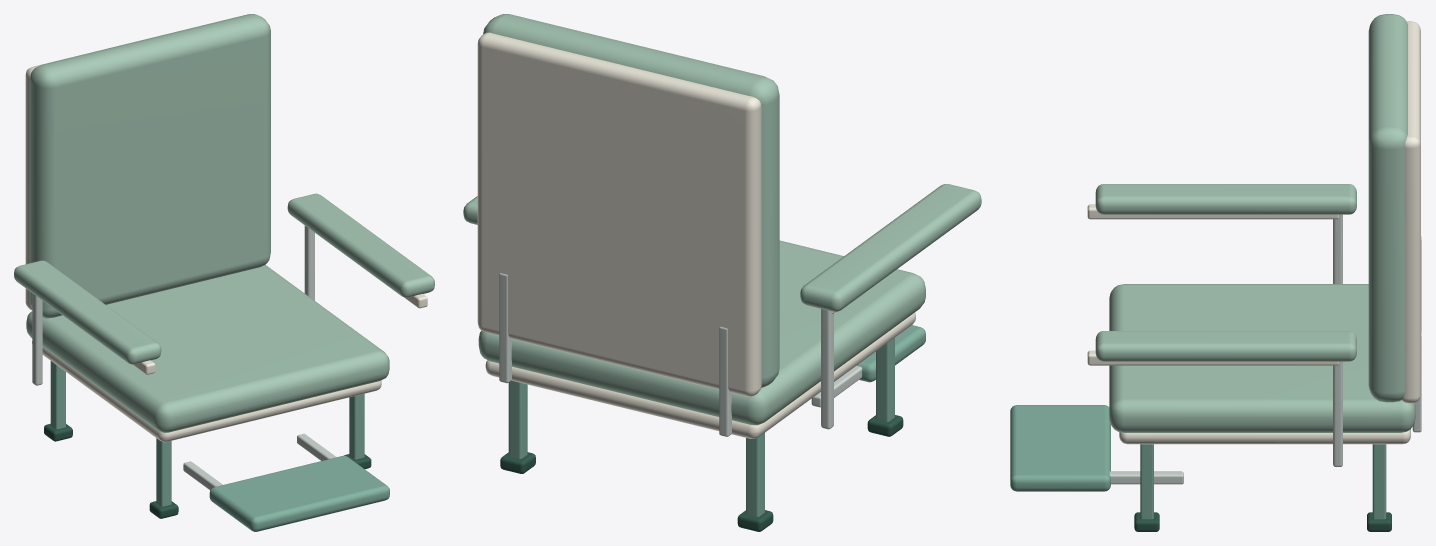
File: patient-chair.glb
3 renders of one model, left to right at view 1: azimuth 30°, elevation 25°; view 2: azimuth 150°, elevation 25°; view 3: azimuth 270°, elevation 25°, orthographic. The views are drawn at different scales.
Parts seen in each view (by area): view 1: patient-chair | material-batched geometry; view 2: patient-chair | material-batched geometry; view 3: patient-chair | material-batched geometry.
Part boxes in pixels (left/top/right/bottom): patient-chair | material-batched geometry: left=14, top=14, right=434, bottom=531; patient-chair | material-batched geometry: left=463, top=14, right=981, bottom=531; patient-chair | material-batched geometry: left=1010, top=14, right=1421, bottom=531.
Bounding box in the file's own units: 2.17 × 2.48 × 2.28.
